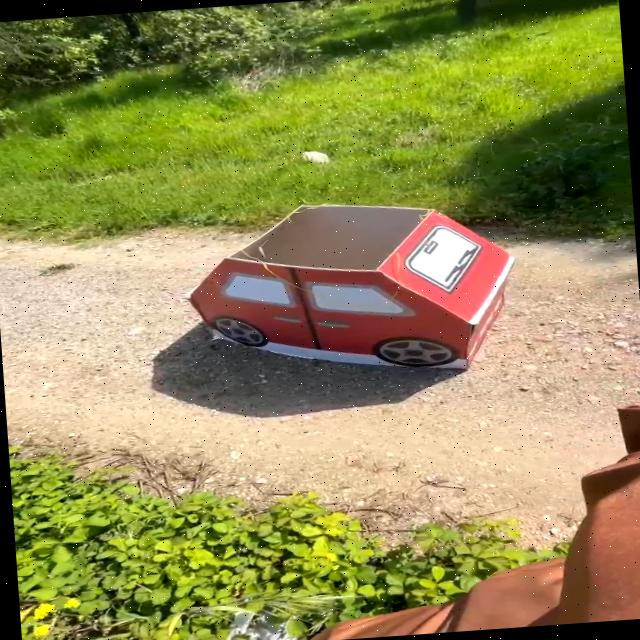red_car: (165, 183, 556, 420)
